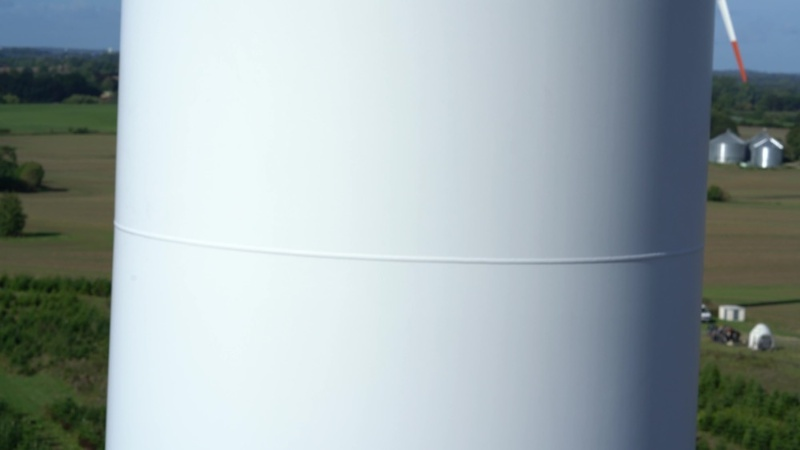weldseam: (111, 217, 706, 272)
